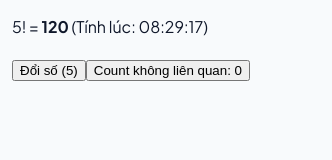
Test case: 15 React Hooks + TypeScript Concise Demos › 05. useMemo: đổi số tính giai thừa, bấm count khác giữ nguyên cache
The width and height of the screenshot is (332, 160).
Expected: the text "120" is shown, [42,16,69,37]
Click the button "Count không liên quan: 0": (168, 70) [86,60,250,81]
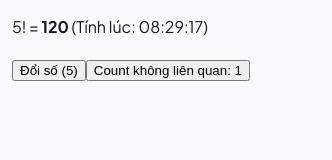
Now the button "Count không liên quan: 1" is shown, box [86,60,250,81]
Click the button "Đổi số (5)": (49, 70) [12,60,86,81]
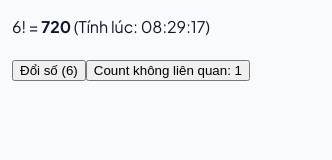
Now the text "720" is shown, box [41,16,71,37]
